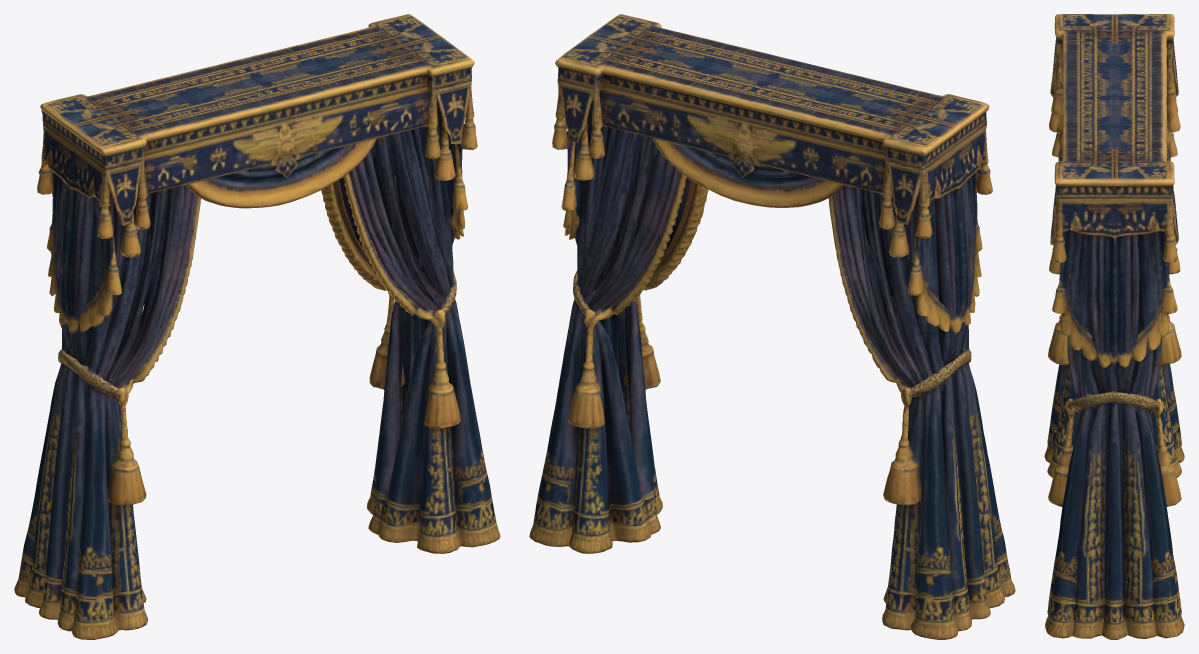
Rendered from ستارة الشرفة.glb.
3 views of the same model, side by side, from view 1: azimuth 30°, elevation 25°; view 2: azimuth 150°, elevation 25°; view 3: azimuth 270°, elevation 25° (orthographic). The views are drawn at different scales.
Parts seen in each view (by area): view 1: world; view 2: world; view 3: world.
Part boxes in pixels (box(x1,y1,x2,y2)): world: box(14, 14, 500, 639); world: box(529, 14, 1015, 639); world: box(1044, 14, 1184, 639).
Bounding box in the file's own units: 0.9362 × 1 × 0.2845.
Materials: 1 (1 with a texture image).
